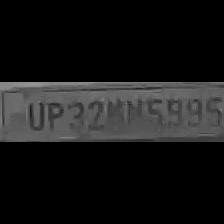2: (84, 95, 107, 131)
3: (65, 96, 85, 130)
5: (143, 95, 165, 127)
8: (184, 93, 204, 126)
9: (164, 93, 184, 126)
P: (44, 98, 64, 132)
U: (23, 98, 44, 132)
